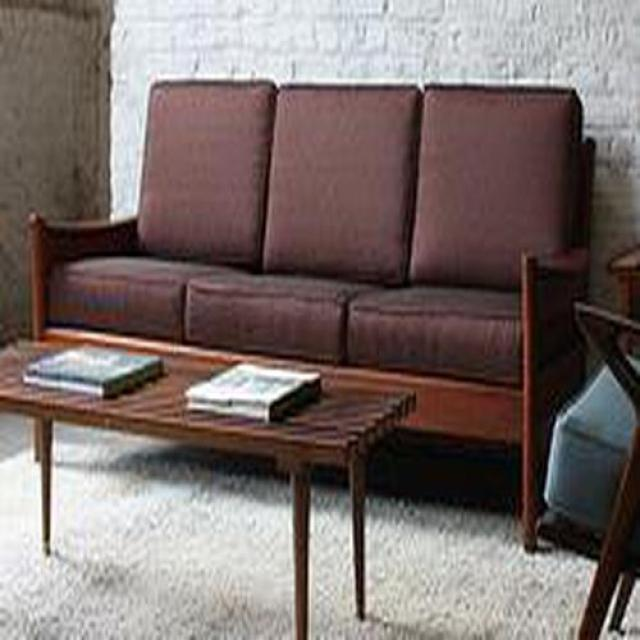sofa: (28, 79, 593, 552)
